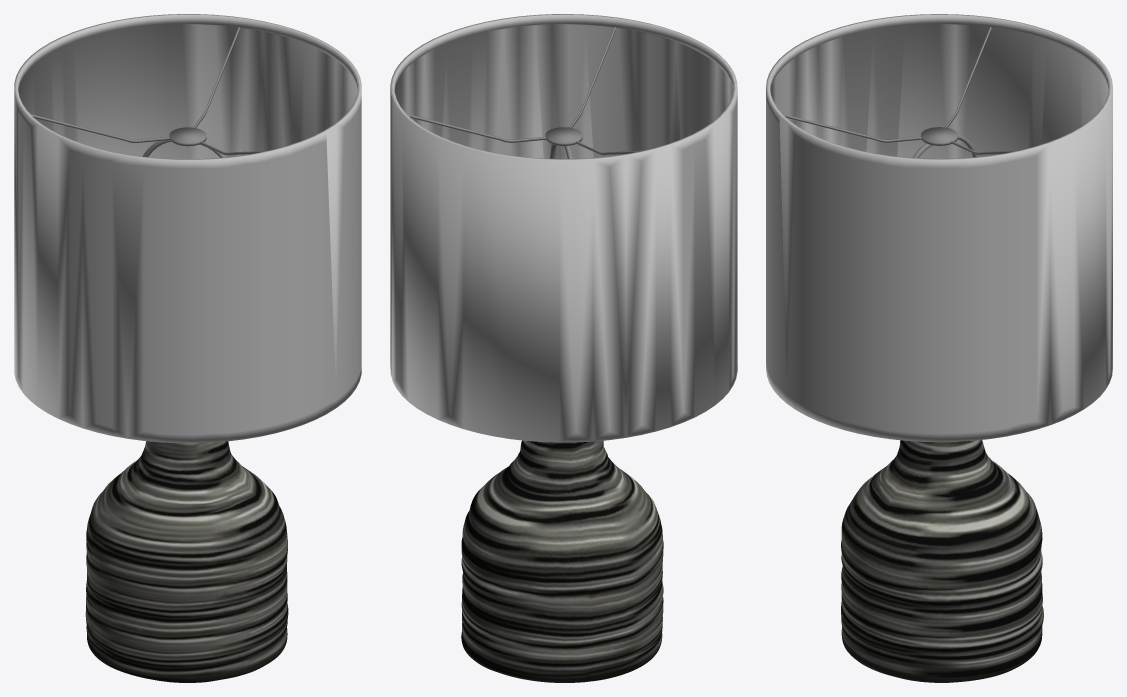
Rendered from B07MBFG1D2.glb.
The picture shows the model from 3 angles, left to right: view 1: azimuth 30°, elevation 25°; view 2: azimuth 150°, elevation 25°; view 3: azimuth 270°, elevation 25°; orthographic projection.
Visible parts, largest first — view 1: RootNode; view 2: RootNode; view 3: RootNode.
Part boxes in pixels (x1=…): RootNode: x1=14, y1=14, x2=361, y2=682; RootNode: x1=390, y1=14, x2=737, y2=682; RootNode: x1=766, y1=14, x2=1112, y2=682.
Size of the model in its own units: 0.2404 by 0.4242 by 0.2404.
Materials: 1 (1 with a texture image).
